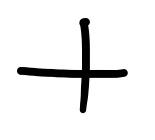plus: (17, 18, 128, 113)
